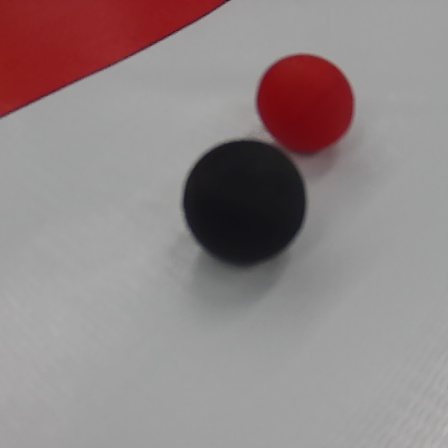black: (181, 141, 318, 274)
red: (254, 53, 357, 153)
red_base: (0, 0, 217, 112)
